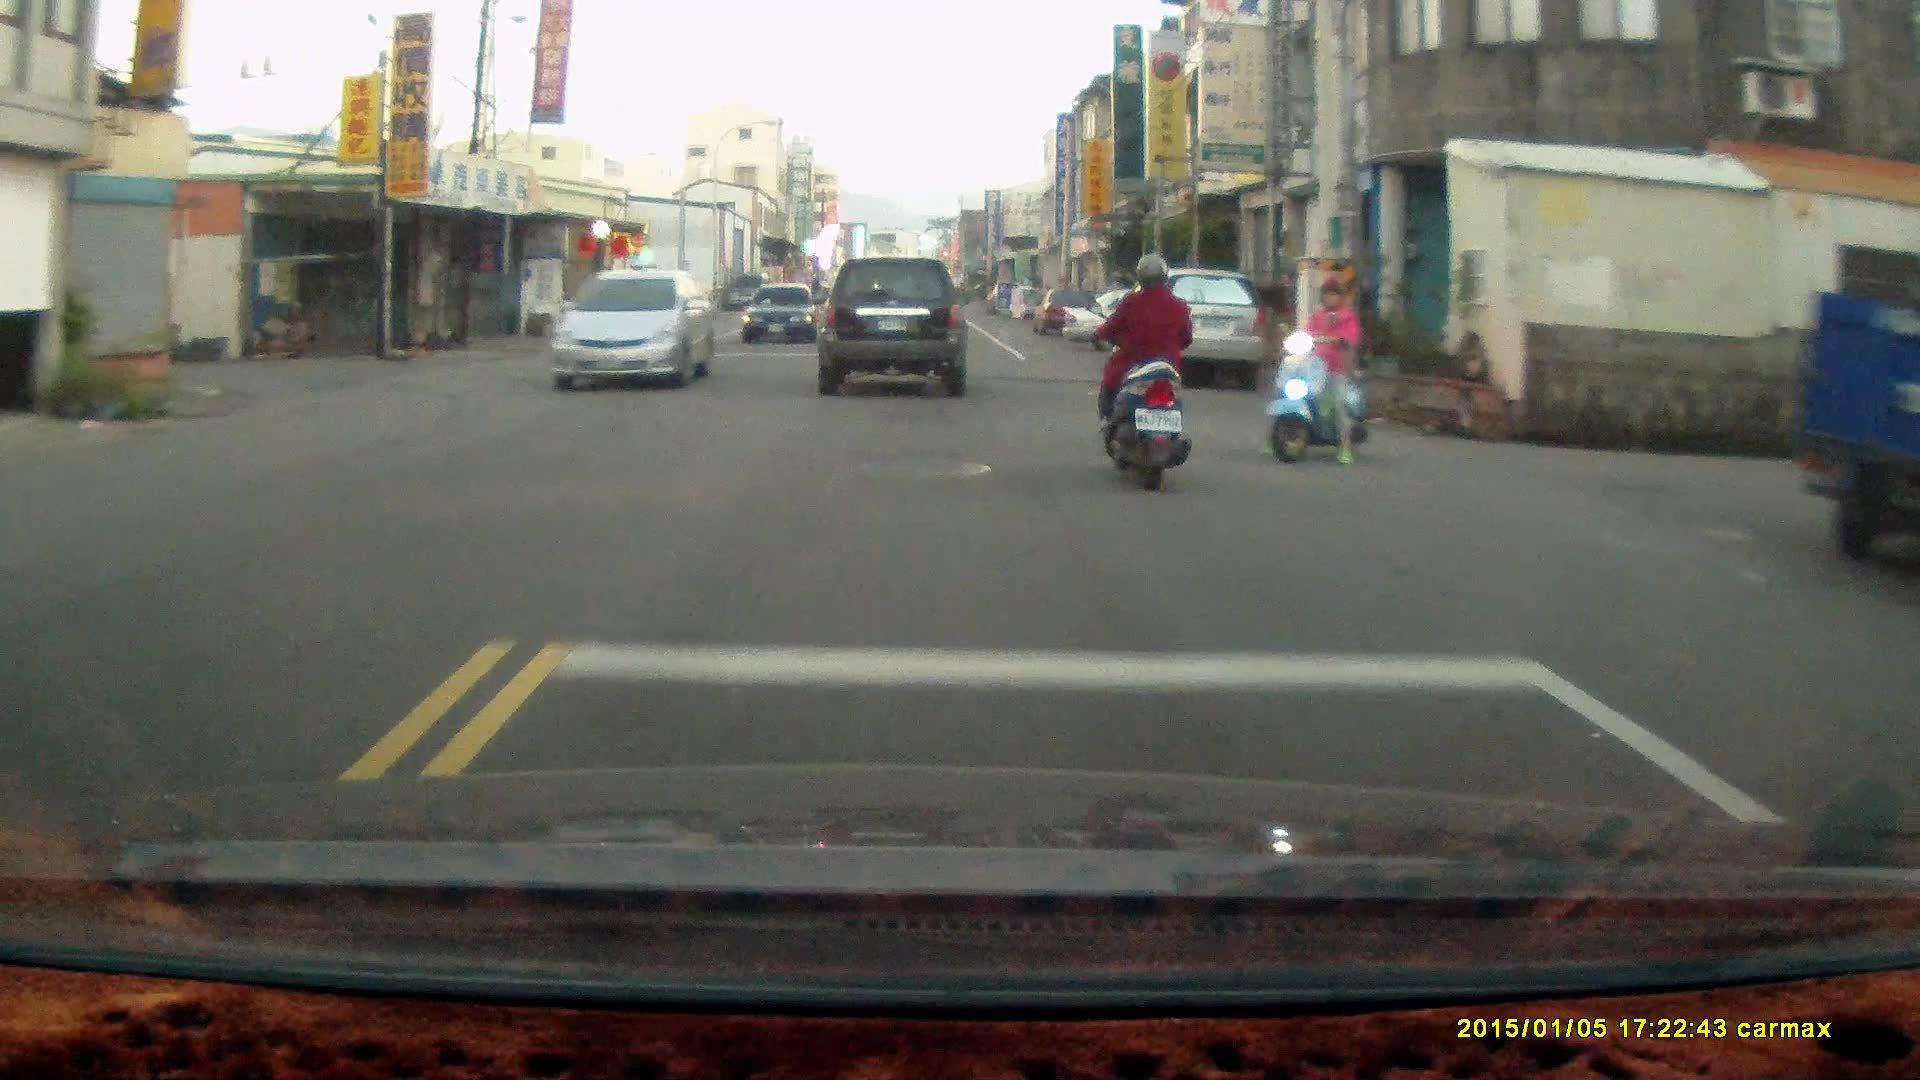rider: (1098, 252, 1191, 498), (1261, 270, 1374, 470)
vehicle: (1800, 242, 1920, 575), (816, 256, 969, 402), (548, 270, 717, 393), (1113, 270, 1271, 391), (744, 284, 821, 348)
